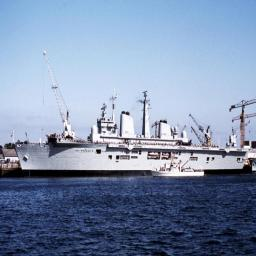Portanaves: (11, 87, 251, 180)
